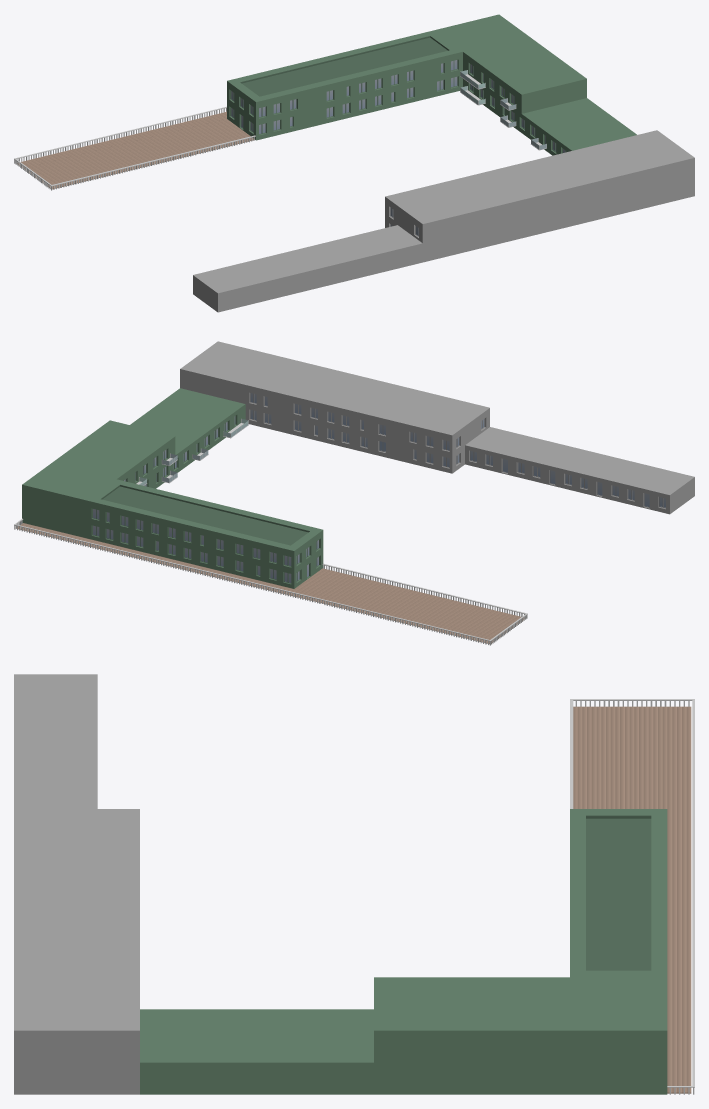
File: RoofNew.fbx
3 renders of one model, top to bottom at view 1: azimuth 30°, elevation 25°; view 2: azimuth 150°, elevation 25°; view 3: azimuth 270°, elevation 25°, orthographic. The views are drawn at different scales.
Parts seen in each view (by area): view 1: Ograda terassa; view 2: Ograda terassa; view 3: Ograda terassa.
Boxes of the visible parts, x1,y1,x2,y2 form: Ograda terassa: (14,14,694,312); Ograda terassa: (14,341,694,645); Ograda terassa: (14,674,694,1094).
Size of the model in its own units: 17837 by 1383 by 13222.
